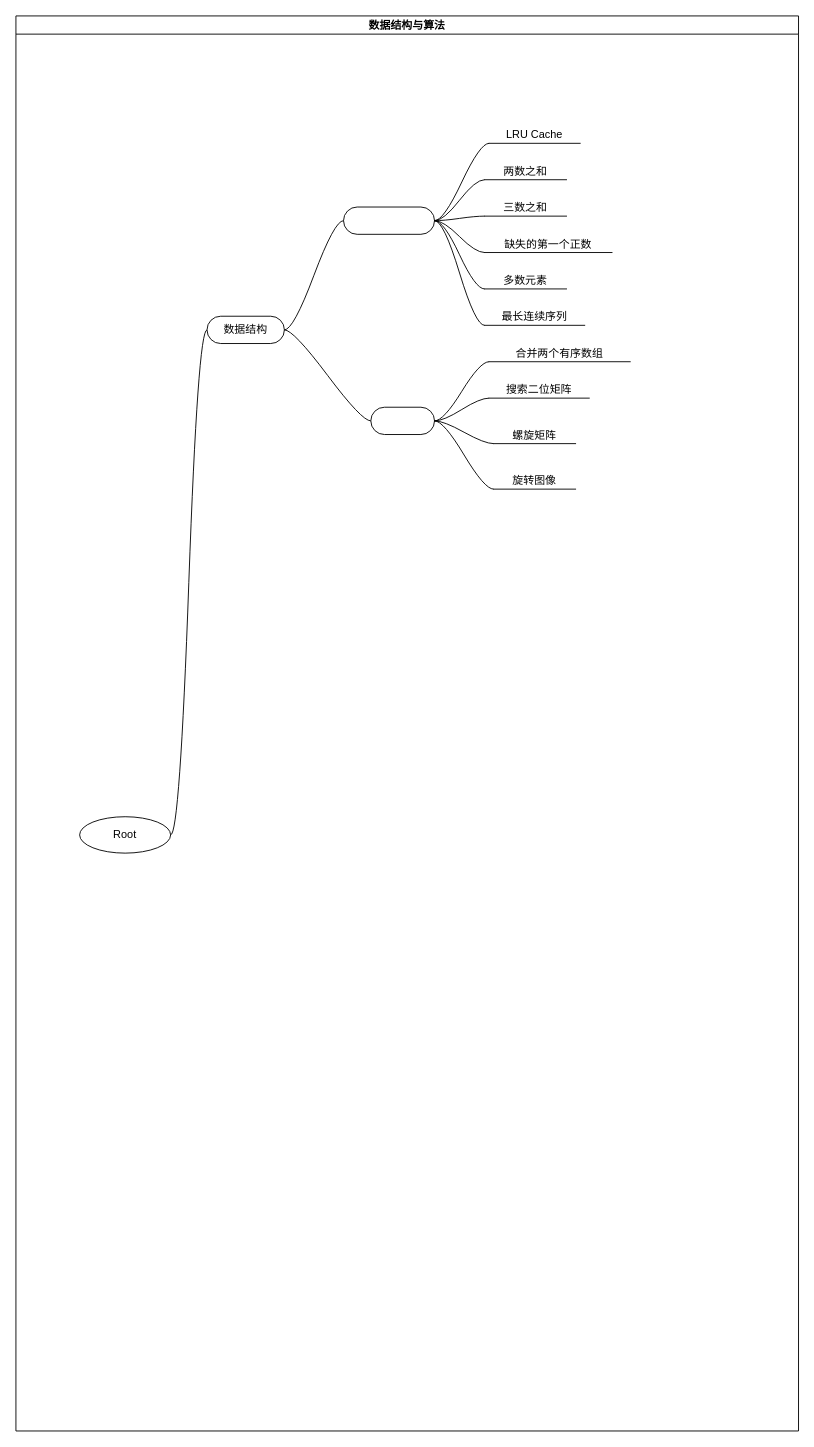
Image size: 814x1447. Some labels were removed from this diagram. Here are the shapes that lost their labels. From the top down, the centre of each, then its label:
the point at 389,220: HashMap
the point at 402,420: Array
